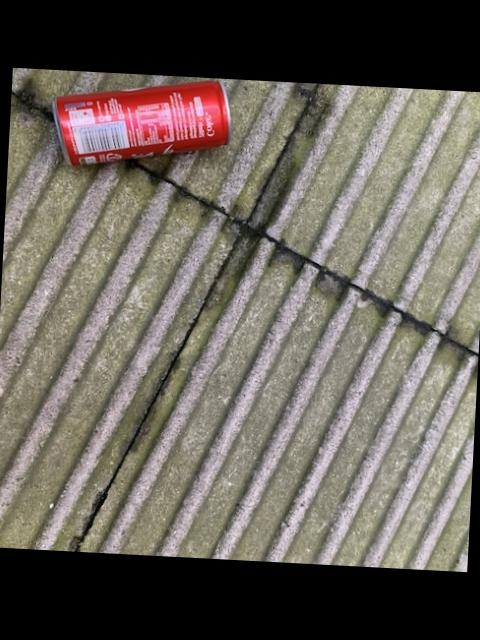metal: (51, 80, 227, 164)
